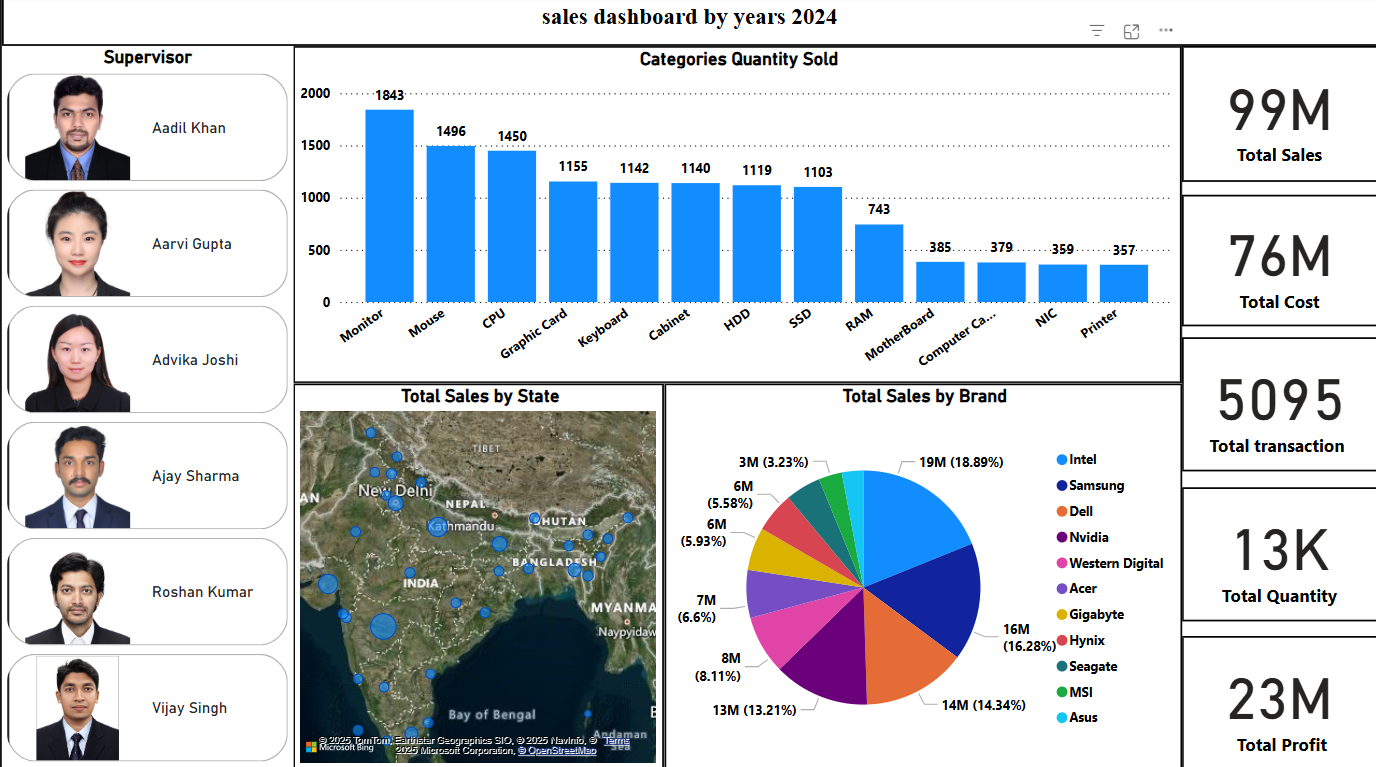

Layout of this report page (visuals, bound fields, positions):
{"tool":"powerbi","page":{"name":"Page 1","canvas":[1280,720],"ordinal":0},"visuals":[{"type":"textbox","box":[0,0,1280,46.2],"z":0},{"type":"card","fields":{"Values":["Sum(Sales_Data.Total_Sales)"]},"box":[1097.5,46.2,182.5,126.2],"z":1000},{"type":"card","fields":{"Values":["Sum(Sales_Data.Total_Cost)"]},"box":[1097.5,185,182.5,122.5],"z":2000},{"type":"card","fields":{"Values":["CountNonNull(Sales_Data.Order_Number)"]},"box":[1097.5,317.5,182.5,125],"z":3000},{"type":"card","fields":{"Values":["Sum(Sales_Data.Quantity)"]},"box":[1097.5,457.5,182.5,125],"z":4000},{"type":"card","fields":{"Values":["Sum(Sales_Data.Total_Profit)"]},"box":[1097.5,595,182.5,125],"z":5000},{"type":"clusteredColumnChart","title":"Categories Quantity Sold","fields":{"Category":["Sales_Data.Category"],"Y":["Sum(Sales_Data.Quantity)"]},"box":[271.2,46.2,826.2,313.8],"z":6000},{"type":"pieChart","title":"Total Sales by Brand","fields":{"Category":["Sales_Data.Brand"],"Y":["Sum(Sales_Data.Total_Sales)"]},"box":[616.2,360,481.2,360],"z":7000},{"type":"map","title":"Total Sales by State","fields":{"Category":["State_list.State"],"Size":["Sum(Sales_Data.Total_Sales)"]},"box":[271.2,360,345,360],"z":8000},{"type":"advancedSlicerVisual","fields":{"Values":["Supervisor.Supervisor"]},"box":[0,46.2,271.2,673.8],"z":9000}]}

Visuals, with their boxes in screenshot pixels (x1, y1, x2, y2), scaled from the page's 1280x720 canvas onto the 1376x767 screenshot:
textbox: [x1=0, y1=0, x2=1375, y2=49]
card - Sum(Sales_Data.Total_Sales): [x1=1180, y1=49, x2=1375, y2=184]
card - Sum(Sales_Data.Total_Cost): [x1=1180, y1=197, x2=1375, y2=328]
card - CountNonNull(Sales_Data.Order_Number): [x1=1180, y1=338, x2=1375, y2=471]
card - Sum(Sales_Data.Quantity): [x1=1180, y1=487, x2=1375, y2=621]
card - Sum(Sales_Data.Total_Profit): [x1=1180, y1=634, x2=1375, y2=766]
"Categories Quantity Sold" clusteredColumnChart: [x1=292, y1=49, x2=1180, y2=384]
"Total Sales by Brand" pieChart: [x1=662, y1=384, x2=1180, y2=766]
"Total Sales by State" map: [x1=292, y1=384, x2=662, y2=766]
advancedSlicerVisual - Supervisor.Supervisor: [x1=0, y1=49, x2=292, y2=766]
